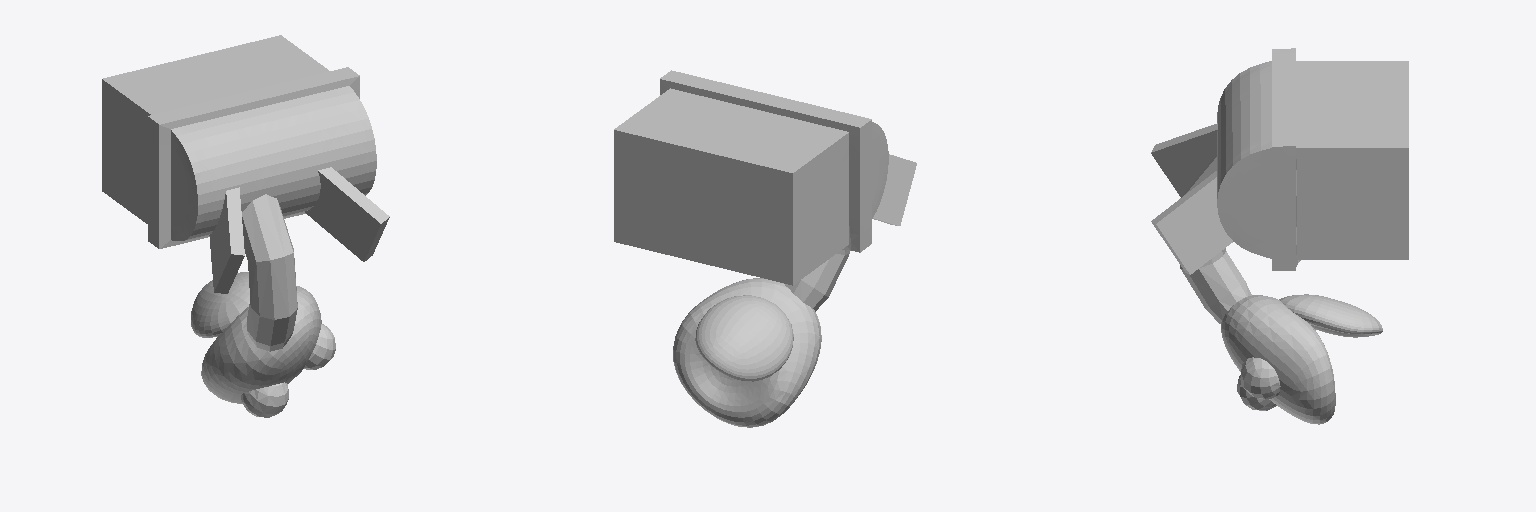
Rendered from ChestBurster.obj.
The picture shows the model from 3 angles: view 1: azimuth 30°, elevation 25°; view 2: azimuth 150°, elevation 25°; view 3: azimuth 270°, elevation 25°; orthographic projection.
Visible parts, largest first — view 1: Merged_PM3D_Cube3D; view 2: Merged_PM3D_Cube3D; view 3: Merged_PM3D_Cube3D.
Boxes of the visible parts, box(x1,y1,x2,y2) form: Merged_PM3D_Cube3D: box(102, 35, 389, 417); Merged_PM3D_Cube3D: box(614, 70, 916, 427); Merged_PM3D_Cube3D: box(1151, 48, 1408, 424).
Bounding box in the file's own units: 848 × 1280 × 945.